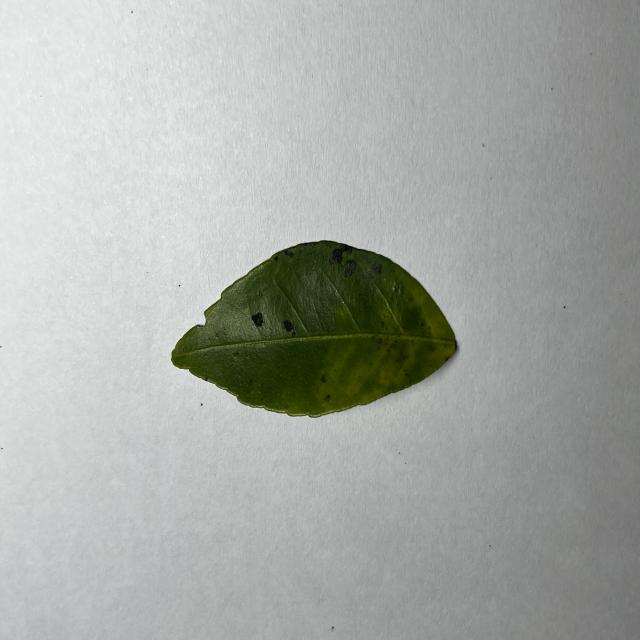sooty_mold: (172, 241, 456, 416)
